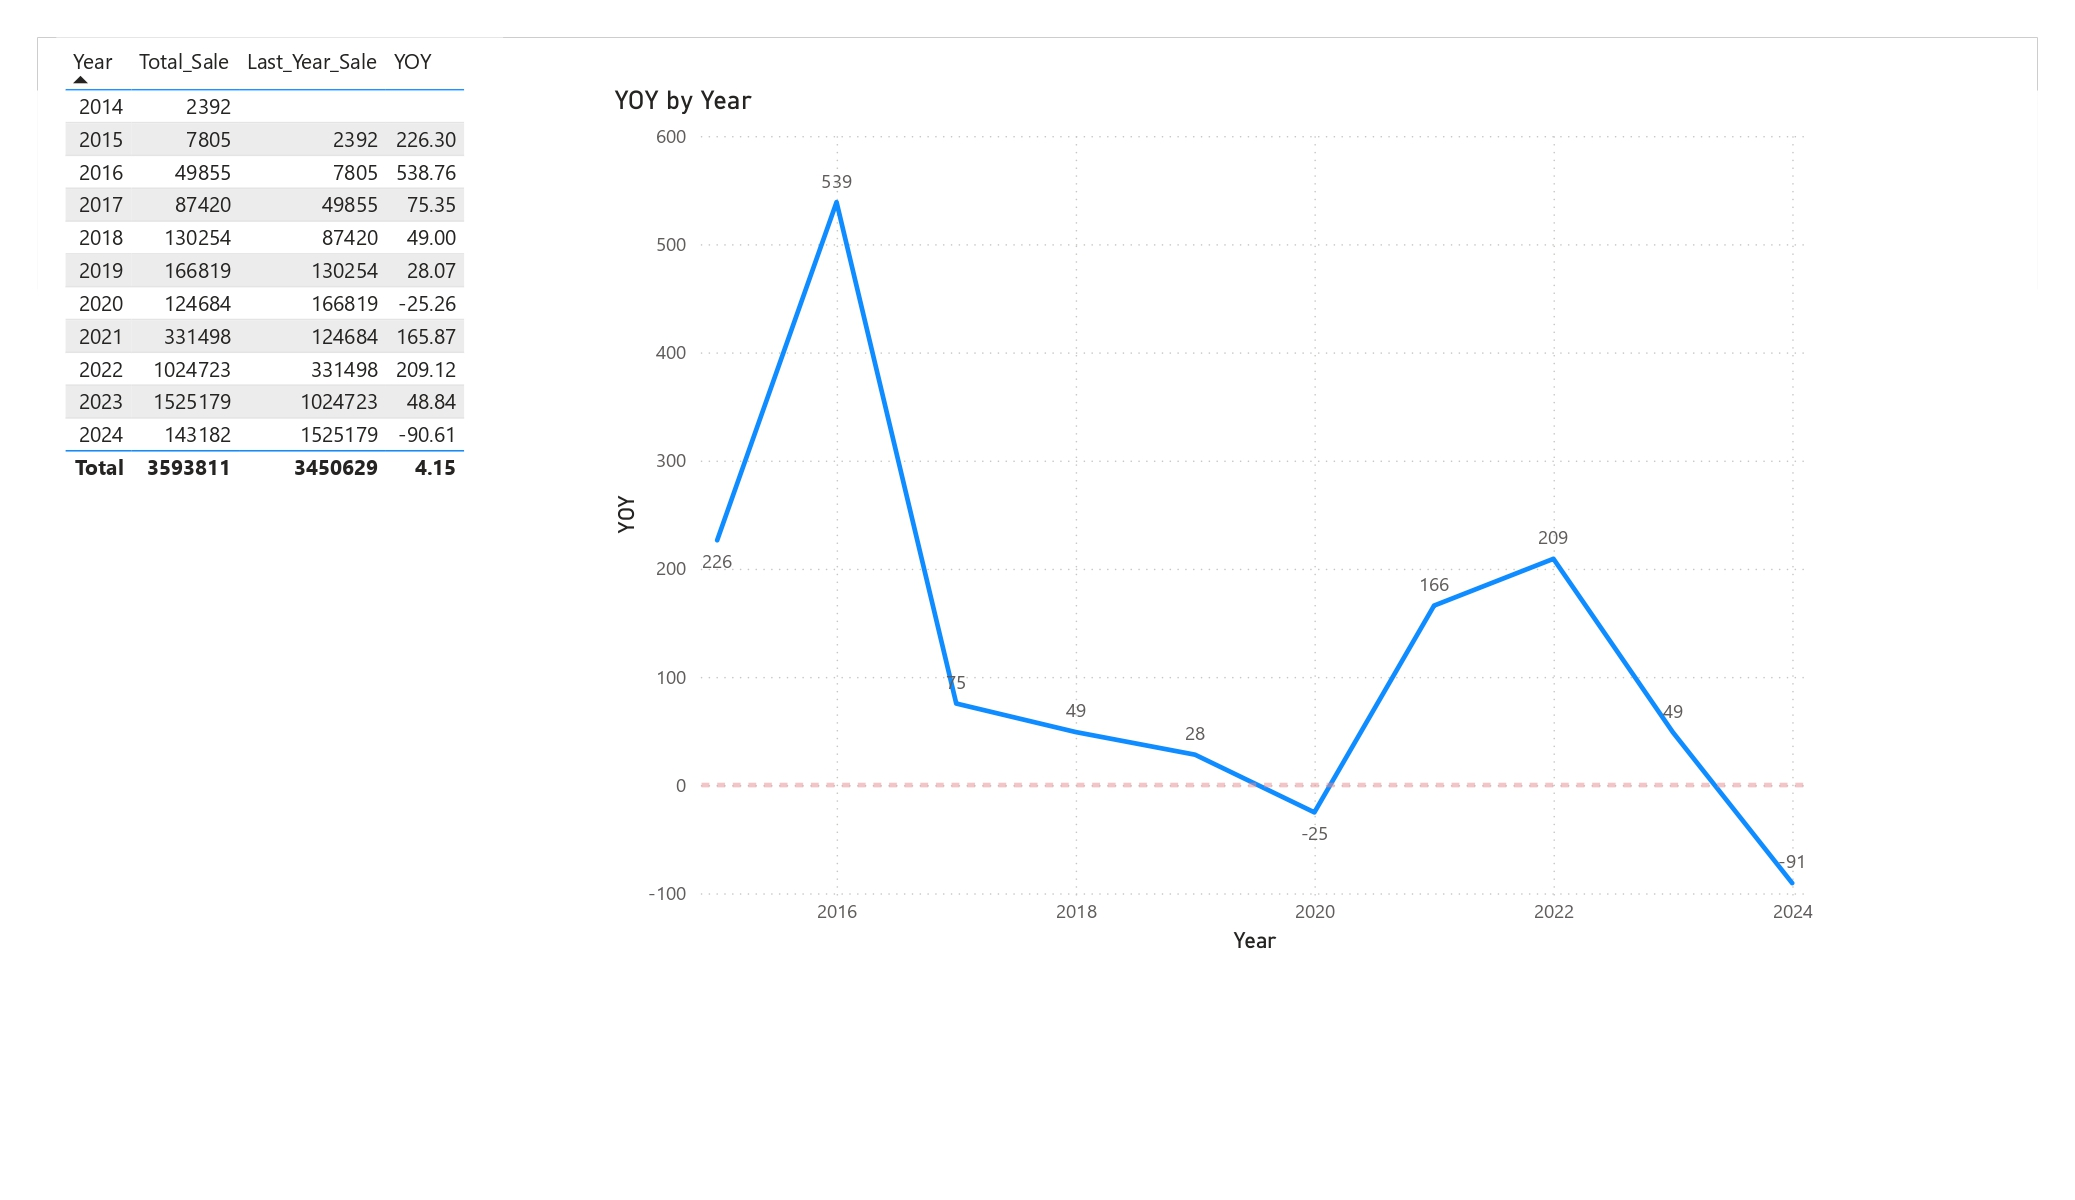

Layout of this report page (visuals, bound fields, positions):
{"tool":"powerbi","page":{"name":"Page 11","canvas":[1280,720],"ordinal":10},"visuals":[{"type":"tableEx","fields":{"Values":["ev.Date.Variation.Date Hierarchy.Year","DAX.Total_Sale","DAX.Last _Sale","DAX.YOY"]},"box":[11.6,0,286.6,311.4],"z":0},{"type":"lineChart","fields":{"Category":["ev.Date.Variation.Date Hierarchy.Year"],"Y":["DAX.YOY"]},"box":[365,30,776.2,305],"z":1000}]}

Visuals, with their boxes on the page's 1280x720 design canvas (x1, y1, x2, y2). These are canvas units, not pixel positions in the 2075x1200 screenshot, which may show the page scaled, cropped or inside an application window:
tableEx - ev.Date.Variation.Date Hierarchy.Year x DAX.Total_Sale: bbox=(12, 0, 298, 311)
lineChart - ev.Date.Variation.Date Hierarchy.Year x DAX.YOY: bbox=(365, 30, 1141, 335)
